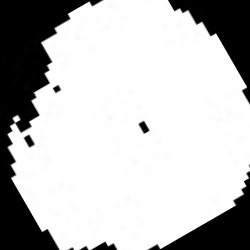spot: (8, 1, 248, 249)
